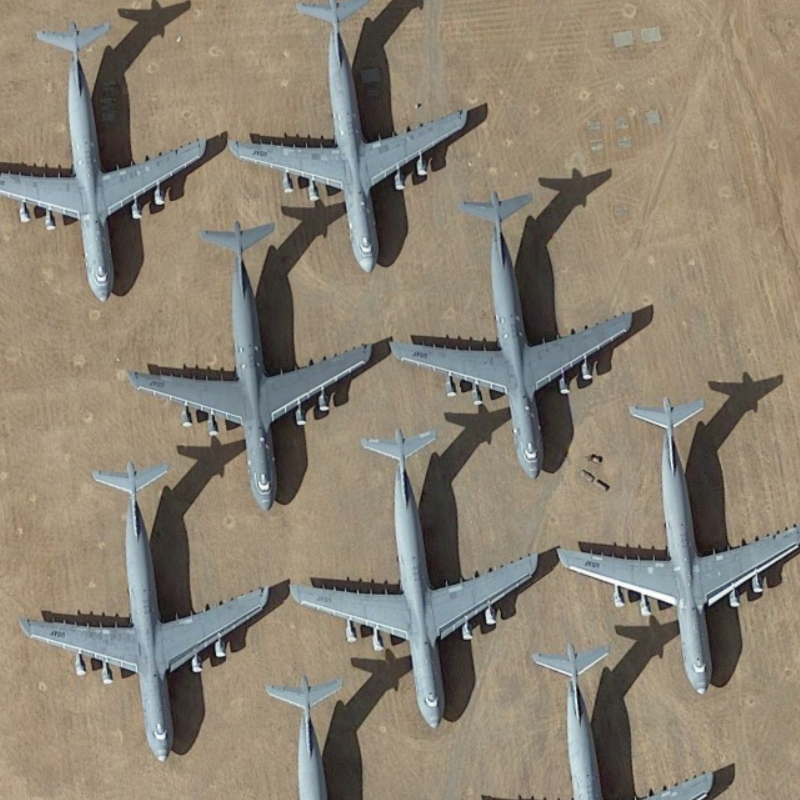A4: (15, 461, 280, 769), (288, 424, 549, 736), (127, 210, 375, 513), (389, 193, 639, 483), (553, 394, 793, 696), (224, 5, 477, 274), (1, 14, 212, 305)
